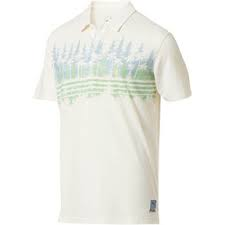S_polo shirt: (36, 10, 199, 223)
